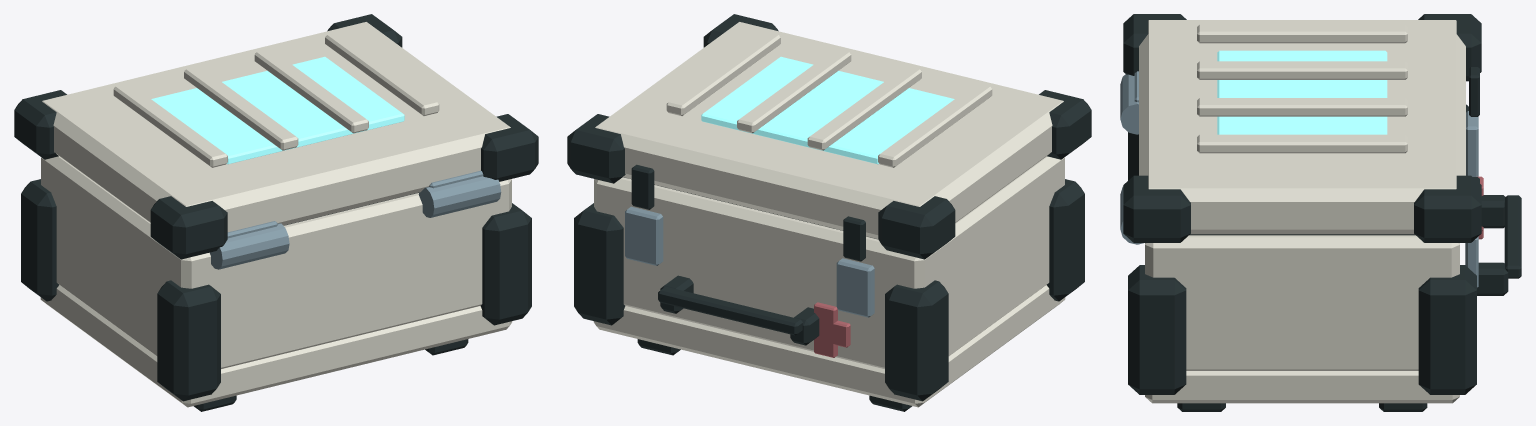
The model's file is sample_transport_case.glb.
3 views of the same model, side by side, from view 1: azimuth 30°, elevation 25°; view 2: azimuth 150°, elevation 25°; view 3: azimuth 270°, elevation 25° (orthographic). The views are drawn at different scales.
Parts seen in each view (by area): view 1: moving_lid, body_back_wall, corner_pad (×3), body_side_wall (×2), body_floor, moving_lid_identity, moving_rib (×4), moving_corner_cap (×4), body_hinge (×2); view 2: moving_lid, body_front_wall, corner_pad (×3), body_side_wall (×2), body_floor, moving_lid_identity, moving_rib (×4), moving_corner_cap (×4), latch_base (×2), front_carry_grip, moving_latch_hook (×2), front_carry_mount (×2) (+2 smaller); view 3: moving_lid, body_side_wall, moving_rib (×4), corner_pad (×3), moving_corner_cap (×4), body_floor, moving_lid_identity, front_carry_mount (×2), front_carry_grip, latch_base (×2), body_hinge, rubber_support (×2) (+4 smaller).
Part boxes in pixels (x1,y1,x2,y2): moving_lid: [42, 22, 510, 232]; body_back_wall: [169, 180, 508, 368]; corner_pad (×3): [21, 179, 531, 401]; body_side_wall (×2): [41, 157, 511, 355]; body_floor: [40, 285, 512, 407]; moving_lid_identity: [151, 56, 404, 164]; moving_rib (×4): [113, 31, 439, 167]; moving_corner_cap (×4): [14, 14, 538, 259]; body_hinge (×2): [210, 176, 501, 269]; moving_lid: [595, 22, 1063, 238]; body_front_wall: [597, 177, 936, 368]; corner_pad (×3): [574, 179, 1084, 401]; body_side_wall (×2): [594, 156, 1064, 355]; body_floor: [593, 285, 1065, 407]; moving_lid_identity: [701, 56, 954, 164]; moving_rib (×4): [666, 31, 992, 167]; moving_corner_cap (×4): [567, 14, 1091, 259]; latch_base (×2): [625, 206, 874, 317]; front_carry_grip: [658, 286, 802, 335]; moving_latch_hook (×2): [631, 164, 865, 261]; front_carry_mount (×2): [660, 275, 819, 345]; moving_lid: [1139, 20, 1465, 234]; body_side_wall: [1145, 235, 1459, 370]; moving_rib (×4): [1197, 24, 1407, 153]; corner_pad (×3): [1128, 132, 1476, 394]; moving_corner_cap (×4): [1123, 14, 1481, 242]; body_floor: [1145, 371, 1459, 403]; moving_lid_identity: [1217, 50, 1387, 134]; front_carry_mount (×2): [1477, 195, 1508, 295]; front_carry_grip: [1504, 195, 1521, 278]; latch_base (×2): [1465, 111, 1478, 287]; body_hinge: [1120, 74, 1138, 134]; rubber_support (×2): [1177, 403, 1427, 411].
Size of the model in its own units: 0.93 by 0.593 by 0.8285.
